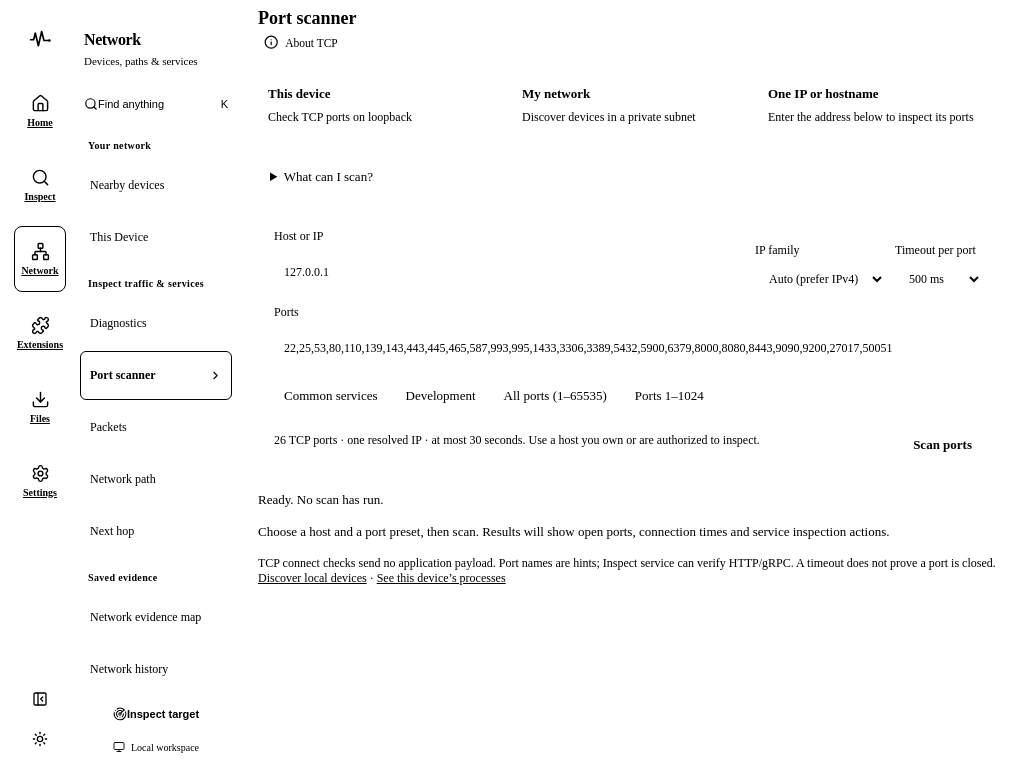
Test: port scanner › cancels the request without restarting it
Click the button "Scan ports".
click(943, 445)  # box [903, 430, 982, 460]
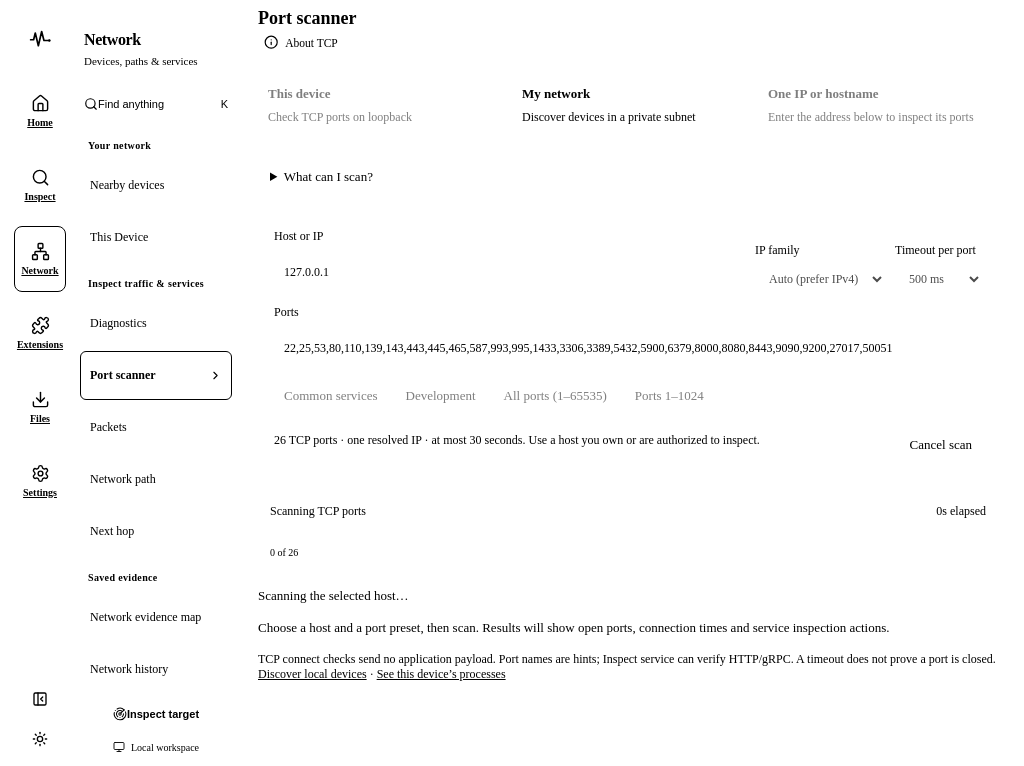
Click the button "Cancel scan".
click(941, 445)  # box [900, 430, 982, 460]
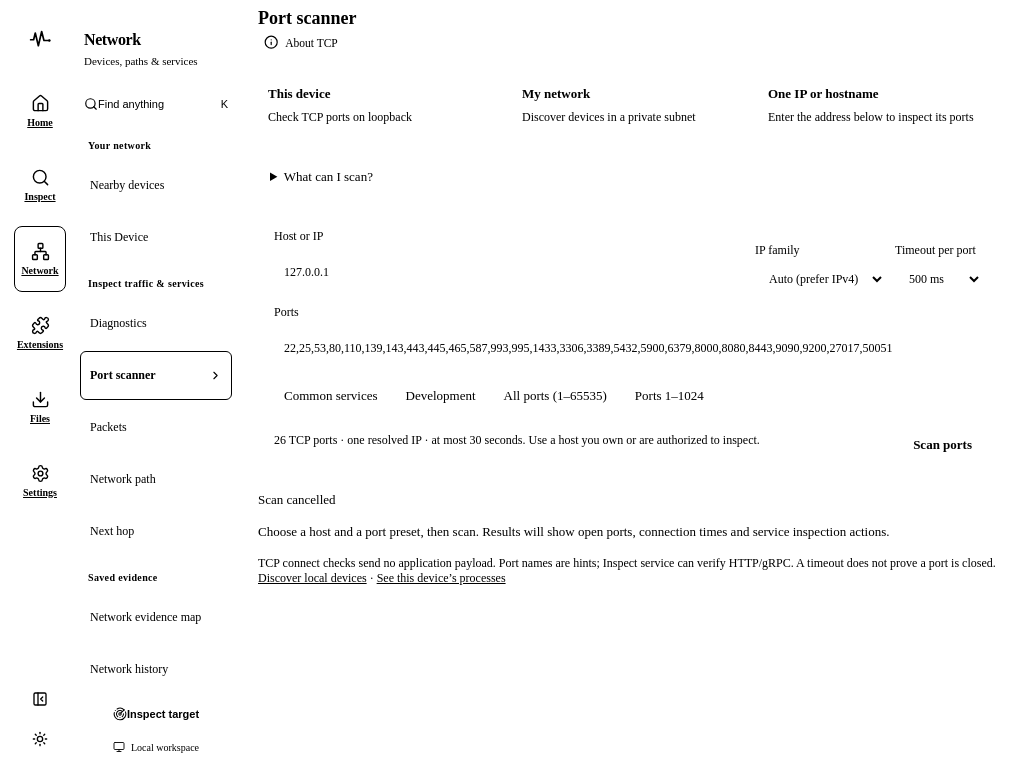
Now the text "Scan cancelled" is shown, box [258, 492, 336, 508]
